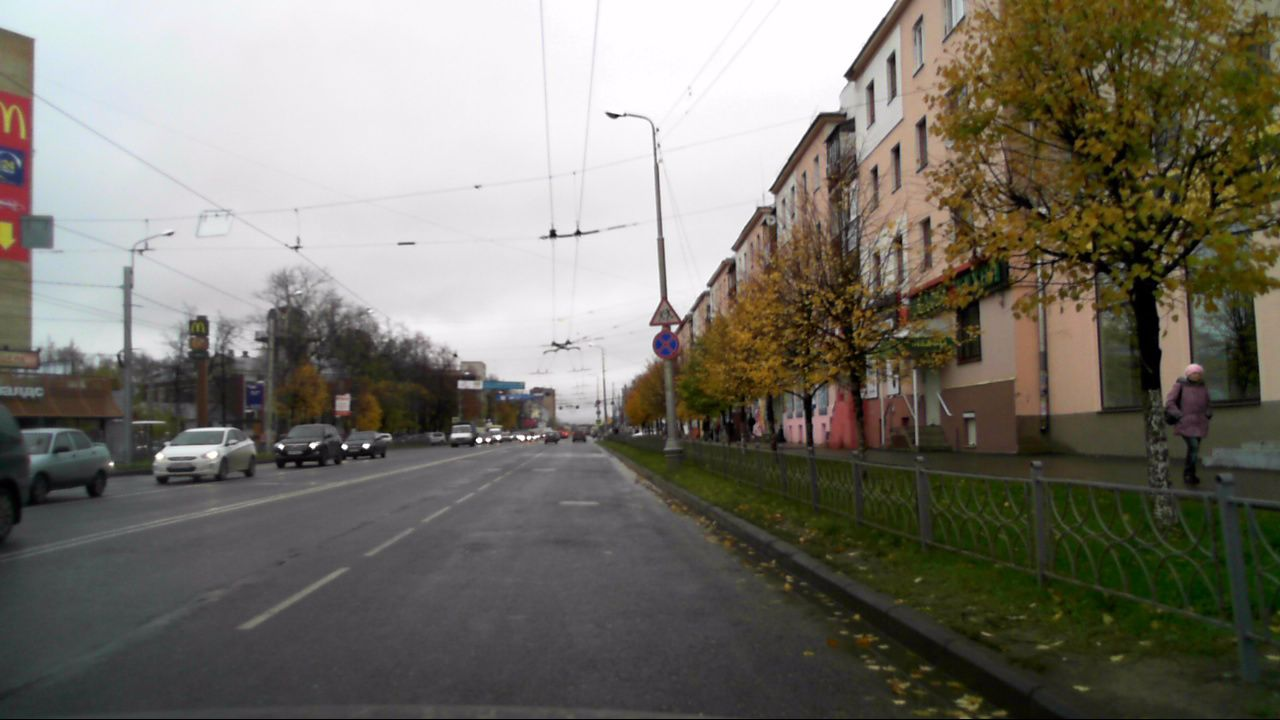No Parking: (652, 329, 679, 359)
